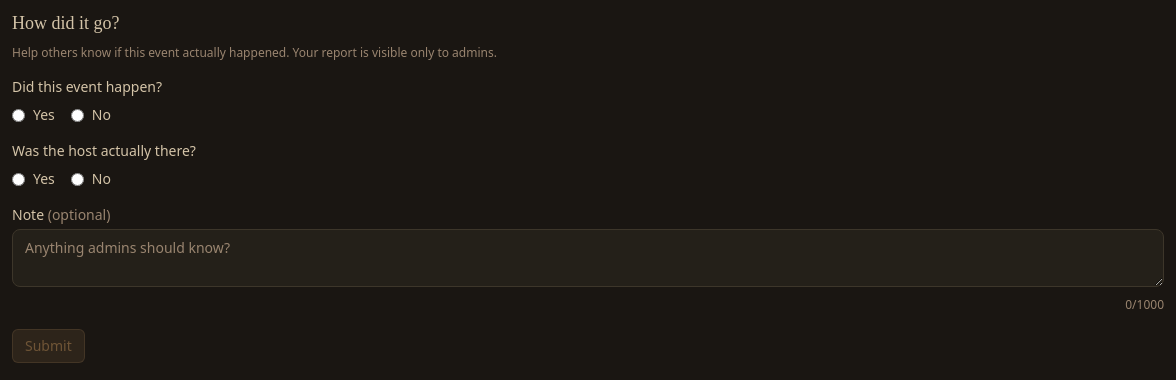
Test: <AttendanceReportSection> › disables Submit until both questions are answered
The width and height of the screenshot is (1176, 380).
Expected: the button "Submit" is disabled, [12,329,85,363]
Click the radio button labelled "Yes" below "Did this event happen?".
click(18, 115)  # box [12,108,25,122]
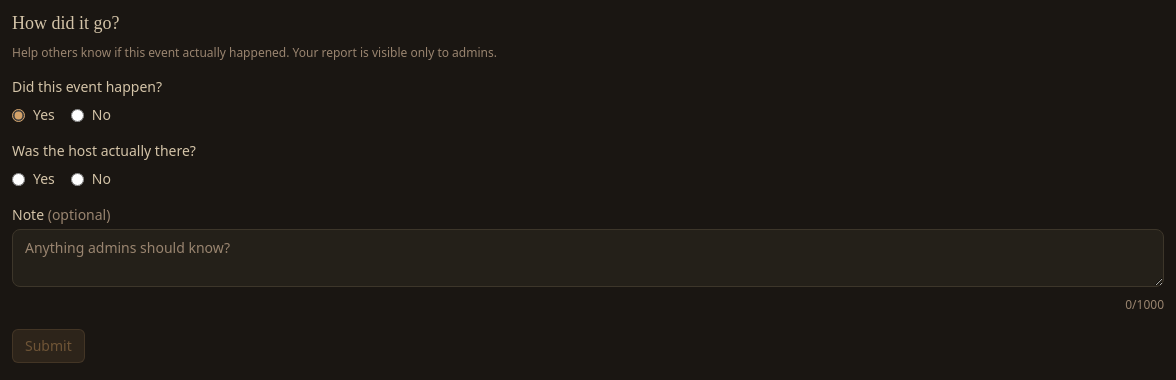
Expected: the button "Submit" is disabled, [12,329,85,363]
Click the radio button labelled "Yes" below "Was the host actually there?".
click(18, 179)  # box [12,172,25,186]
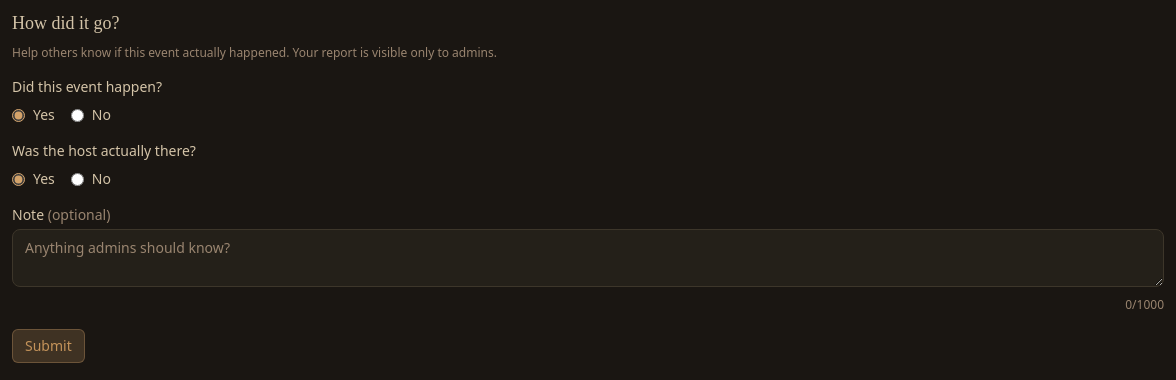
Result: the button "Submit" is enabled at [12,329,85,363]
